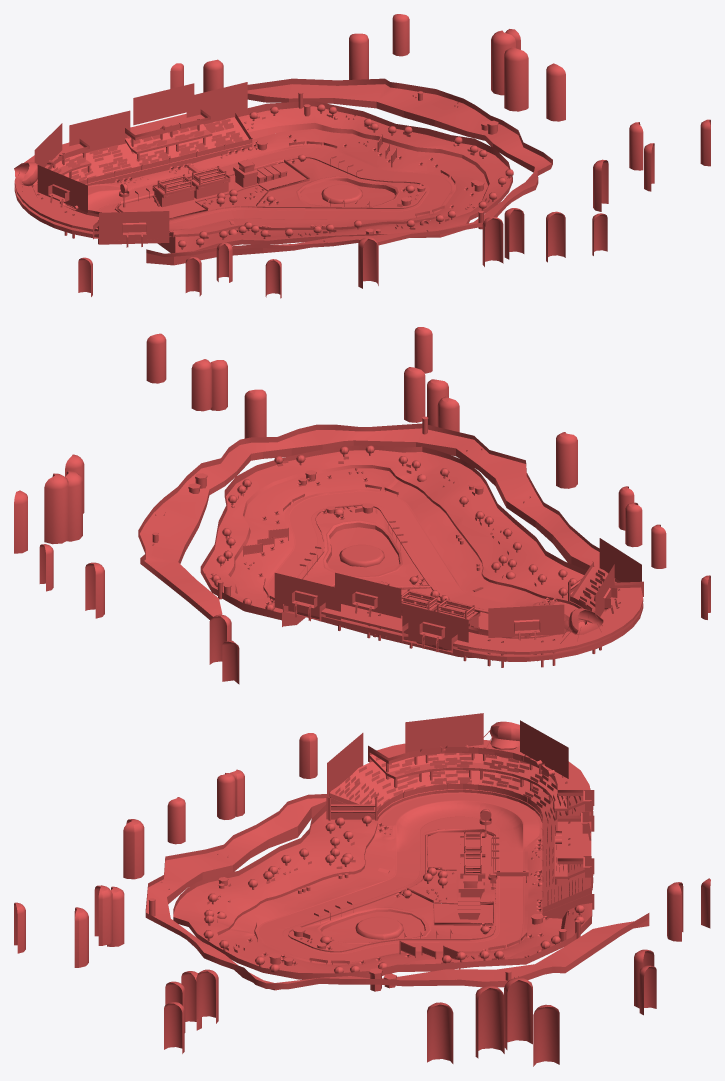
The model's file is circuit.obj.
The picture shows the model from 3 angles, top to bottom: view 1: azimuth 30°, elevation 25°; view 2: azimuth 150°, elevation 25°; view 3: azimuth 270°, elevation 25°; orthographic projection. The views are drawn at different scales.
Parts seen in each view (by area): view 1: circuit; view 2: circuit; view 3: circuit.
Part boxes in pixels (x1,y1,x2,y2): circuit: [14, 14, 710, 298]; circuit: [14, 327, 710, 684]; circuit: [14, 713, 710, 1066].
Bounding box in the file's own units: 113 × 14.88 × 103.
